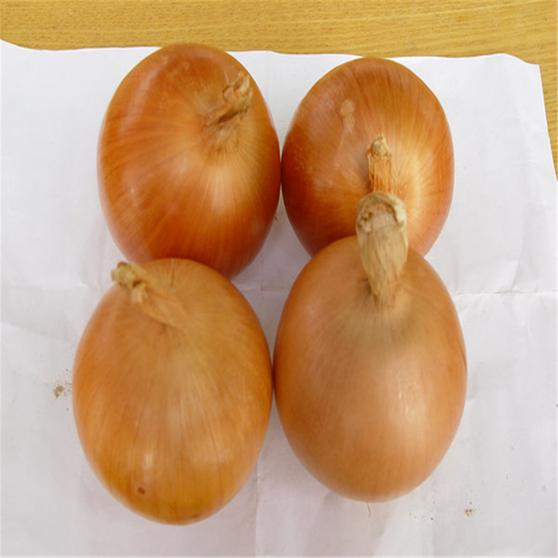onion: (271, 226, 475, 515), (72, 251, 277, 533), (71, 26, 286, 279), (277, 49, 468, 260)
